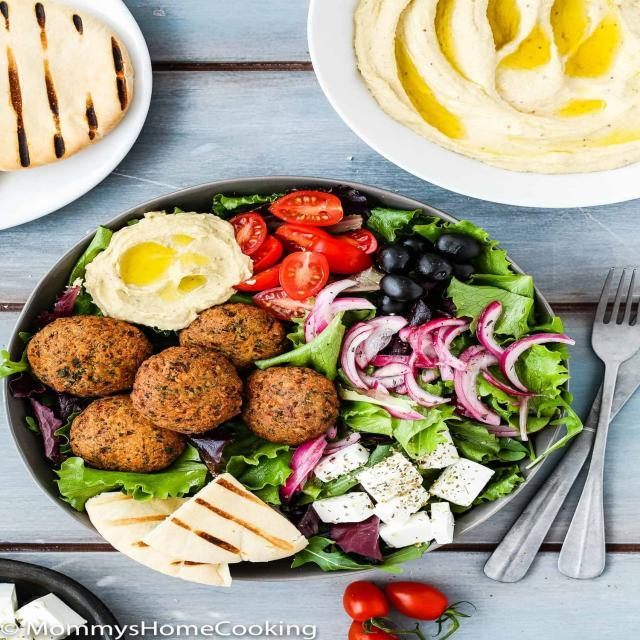flafel: (125, 347, 243, 433), (69, 395, 183, 482), (24, 318, 142, 397), (242, 363, 338, 445), (184, 301, 289, 371)
